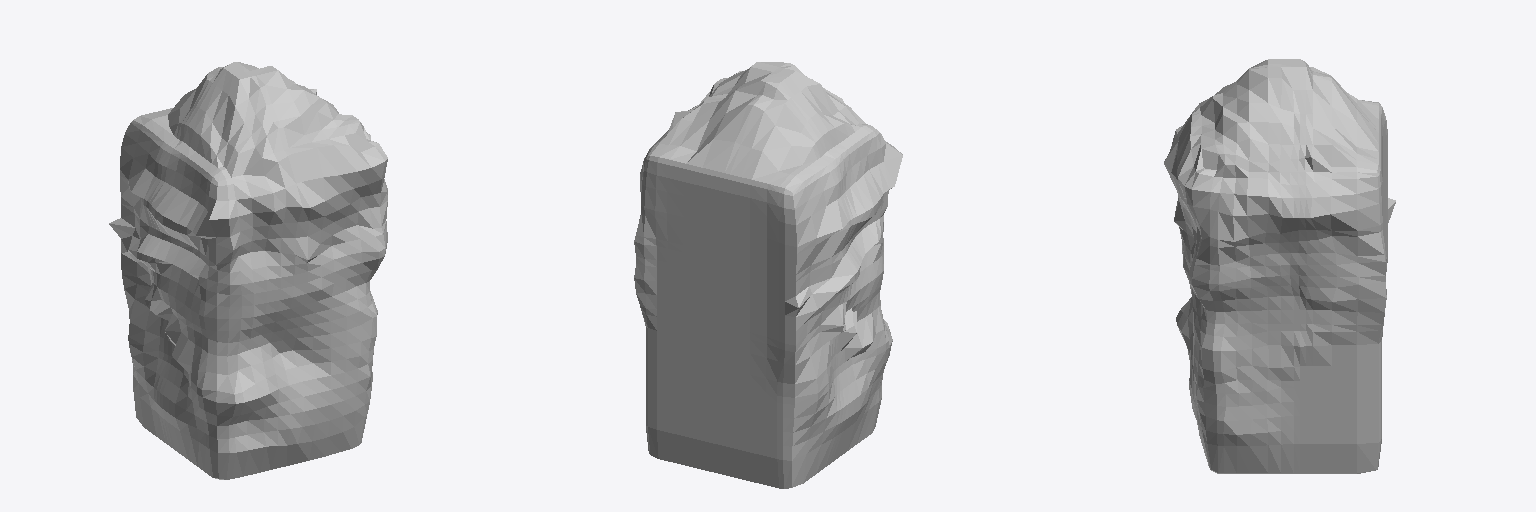
Rendered from env_level1_Canyon_Rock01.obj.
3 views of the same model, side by side, from view 1: azimuth 30°, elevation 25°; view 2: azimuth 150°, elevation 25°; view 3: azimuth 270°, elevation 25° (orthographic).
Parts seen in each view (by area): view 1: rockwall_a00; view 2: rockwall_a00; view 3: rockwall_a00.
Boxes of the visible parts, x1,y1,x2,y2 form: rockwall_a00: [109, 62, 387, 479]; rockwall_a00: [634, 62, 902, 488]; rockwall_a00: [1164, 59, 1395, 473].
Bounding box in the file's own units: 5276 × 9099 × 5162.